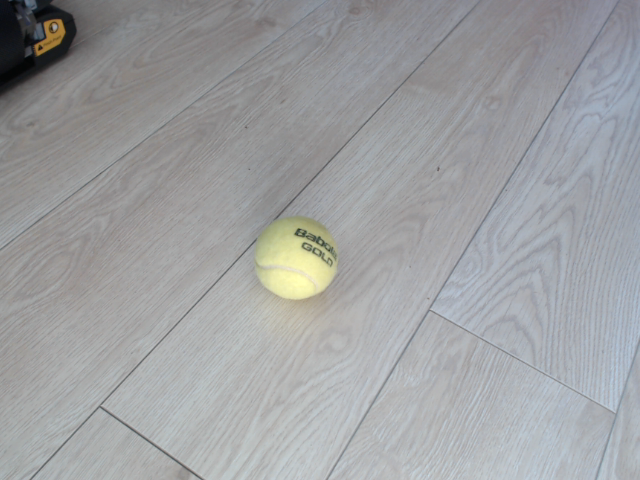ball: (252, 214, 342, 302)
